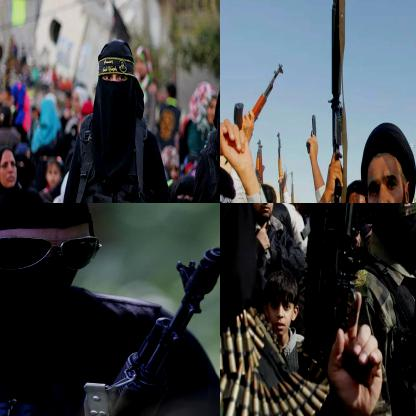pistol: (304, 114, 320, 161)
rifle: (16, 243, 219, 415), (294, 203, 380, 399), (224, 61, 287, 149), (327, 0, 354, 202), (409, 138, 415, 186)
